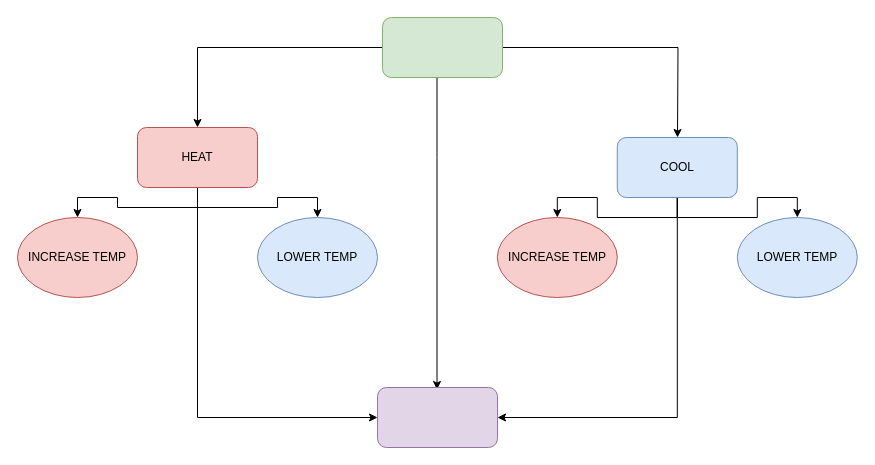
This 875x465 diagram has some shape labels left out. The centre of each missing label's shape, as x and y in pixels:
"CHANGE STATE" belongs at point (442, 47).
"OFF" belongs at point (437, 417).
